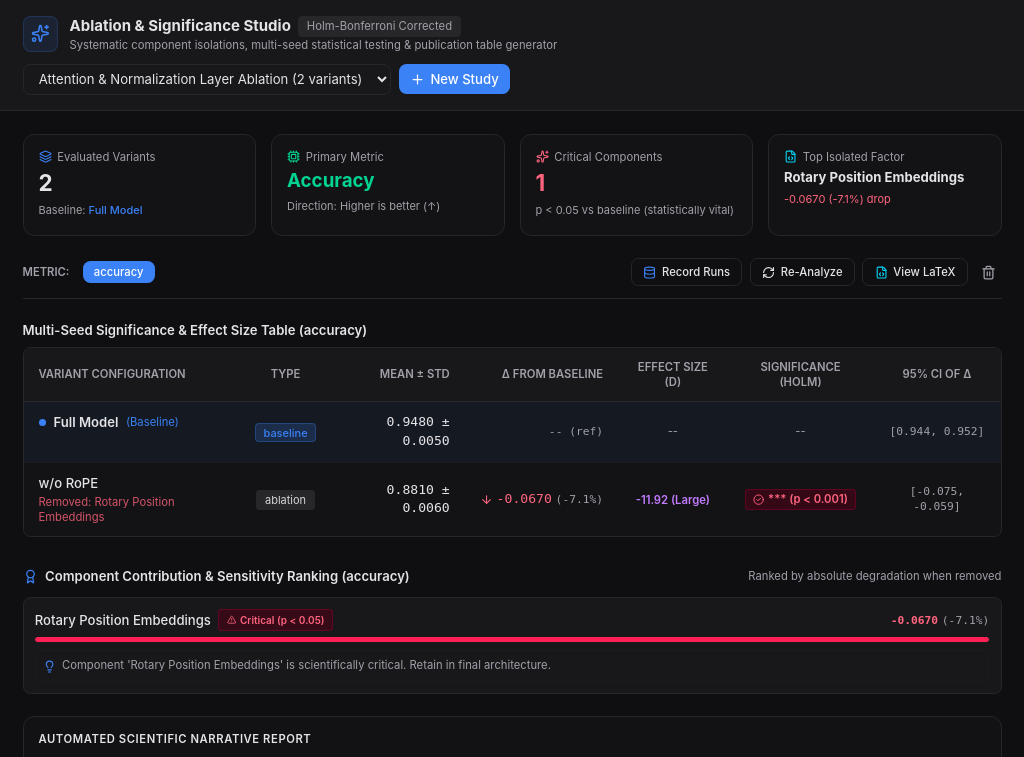
Scenario: AblationStudio Component › handles LaTeX table generation and display
Click the button "View LaTeX" at (915, 272), box [862, 258, 968, 286]
(page scrolled)
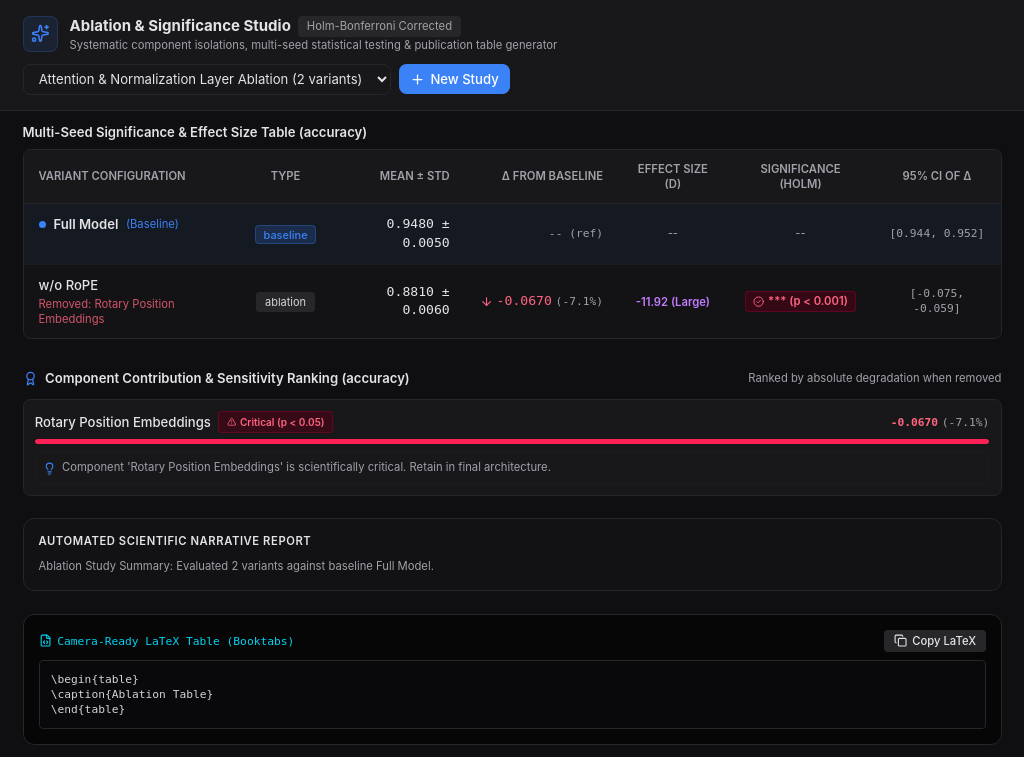
Expected: the text "Camera-Ready LaTeX Table (Booktabs)" is shown, [38, 634, 294, 648]
Expected: the text "\\begin{table} \\caption{Ablation Table} \\end{table}" is shown, [38, 660, 986, 729]
